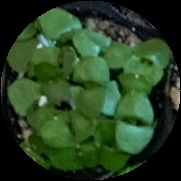Basil: (10, 78, 55, 135), (42, 9, 97, 55), (114, 86, 149, 153), (76, 32, 128, 70), (35, 50, 77, 95), (76, 58, 108, 114), (49, 141, 103, 174), (5, 20, 38, 74), (125, 44, 167, 84), (98, 119, 133, 166), (43, 114, 90, 146)
